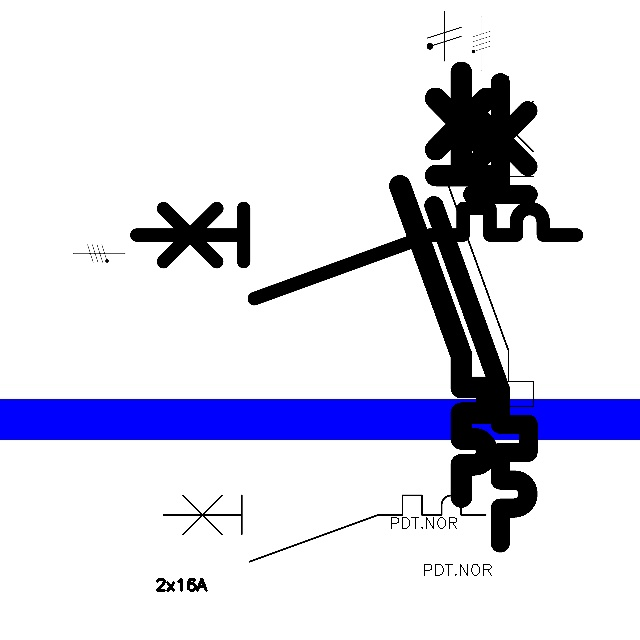interruptor_termomagnetico: (422, 70, 540, 555), (125, 197, 588, 310), (389, 61, 498, 507), (438, 66, 544, 498), (155, 487, 494, 570)
